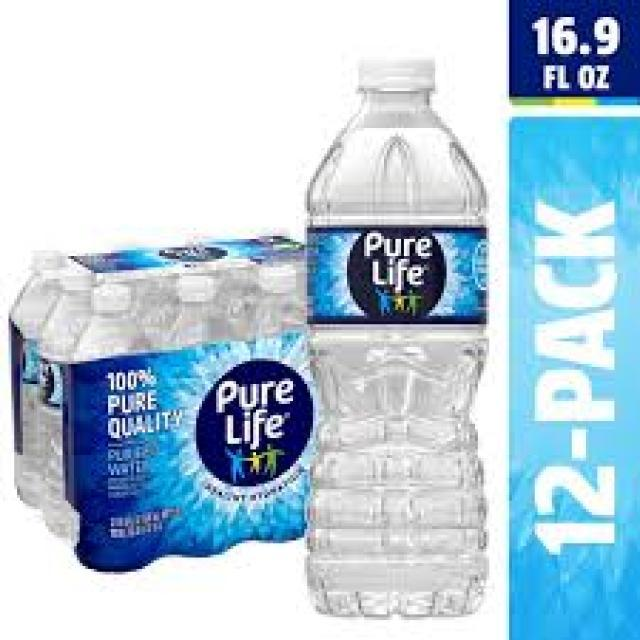bottle: (278, 51, 510, 628)
